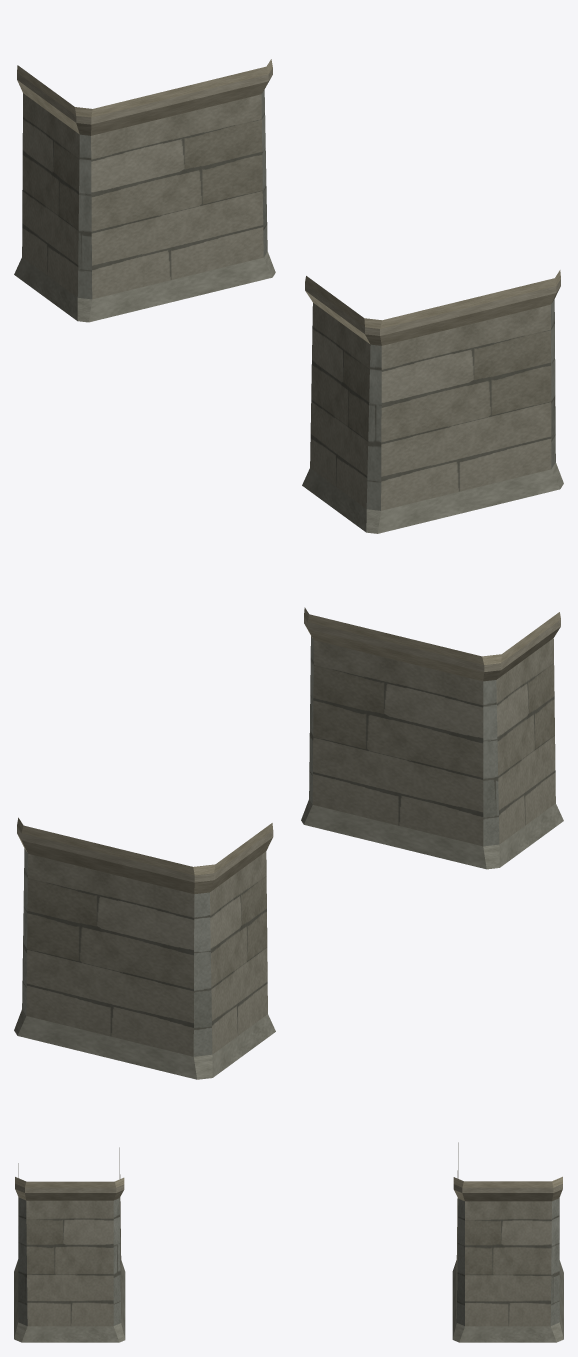
File: vault_jamb.glb
The picture shows the model from 3 angles, top to bottom: view 1: azimuth 30°, elevation 25°; view 2: azimuth 150°, elevation 25°; view 3: azimuth 270°, elevation 25°; orthographic projection. The views are drawn at different scales.
Visible parts, largest first — view 1: VAULT_JAMBS; view 2: VAULT_JAMBS; view 3: VAULT_JAMBS.
Boxes of the visible parts, box(x1,y1,x2,y2) form: VAULT_JAMBS: box(14, 59, 563, 533); VAULT_JAMBS: box(14, 607, 563, 1079); VAULT_JAMBS: box(14, 1142, 563, 1342).
Size of the model in its own units: 5 by 5.1 by 15.8.
Materials: 1 (1 with a texture image).
